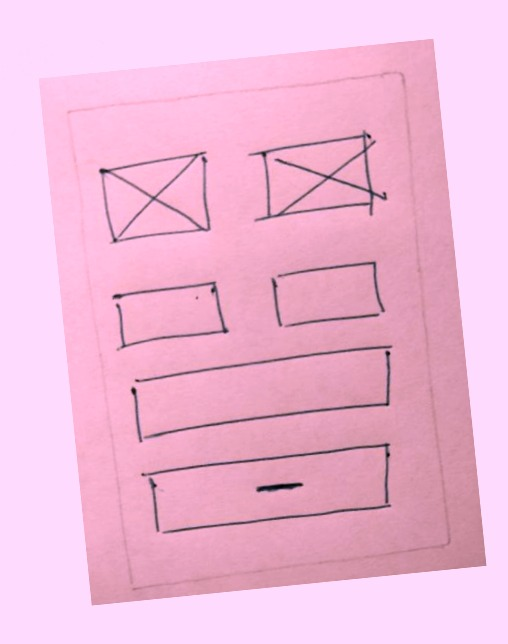button: (137, 440, 403, 539)
image: (243, 125, 397, 235), (94, 146, 219, 252)
text_input: (121, 340, 413, 448), (260, 254, 396, 336), (105, 274, 234, 355)
